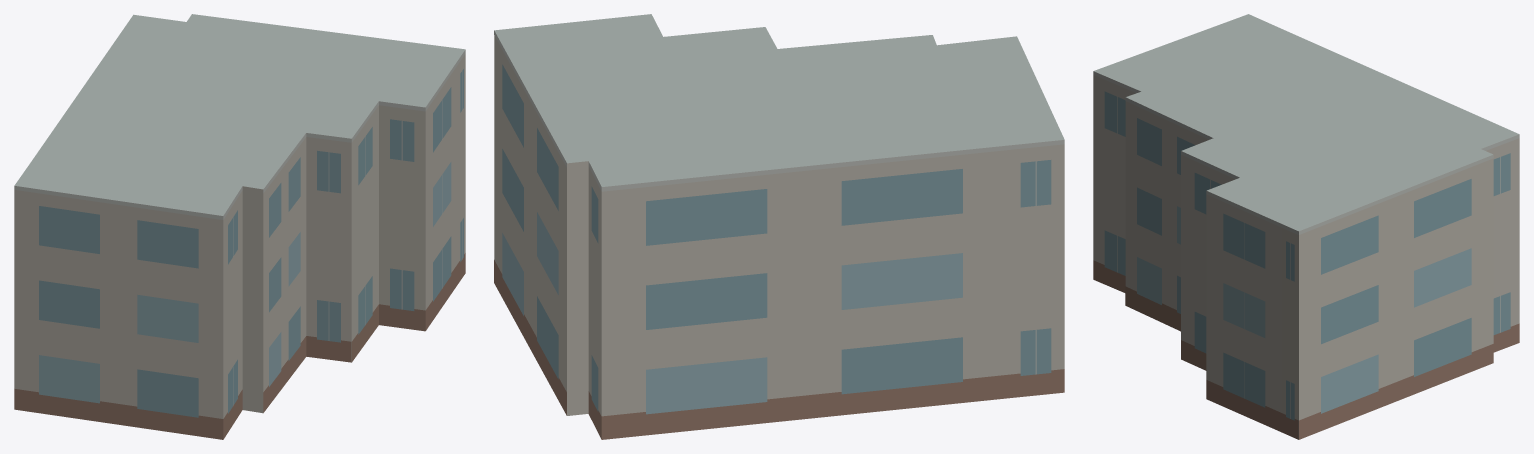
Rendered from survey-upis-32832261.glb.
3 views of the same model, side by side, from view 1: azimuth 30°, elevation 25°; view 2: azimuth 150°, elevation 25°; view 3: azimuth 270°, elevation 25° (orthographic). The views are drawn at different scales.
Parts seen in each view (by area): view 1: survey-upis-32832261.tmp; view 2: survey-upis-32832261.tmp; view 3: survey-upis-32832261.tmp.
Part boxes in pixels (bbox=[...]): survey-upis-32832261.tmp: bbox=[14, 14, 465, 439]; survey-upis-32832261.tmp: bbox=[494, 14, 1064, 439]; survey-upis-32832261.tmp: bbox=[1093, 14, 1519, 439].
Size of the model in its own units: 30.42 by 13.6 by 25.21.
